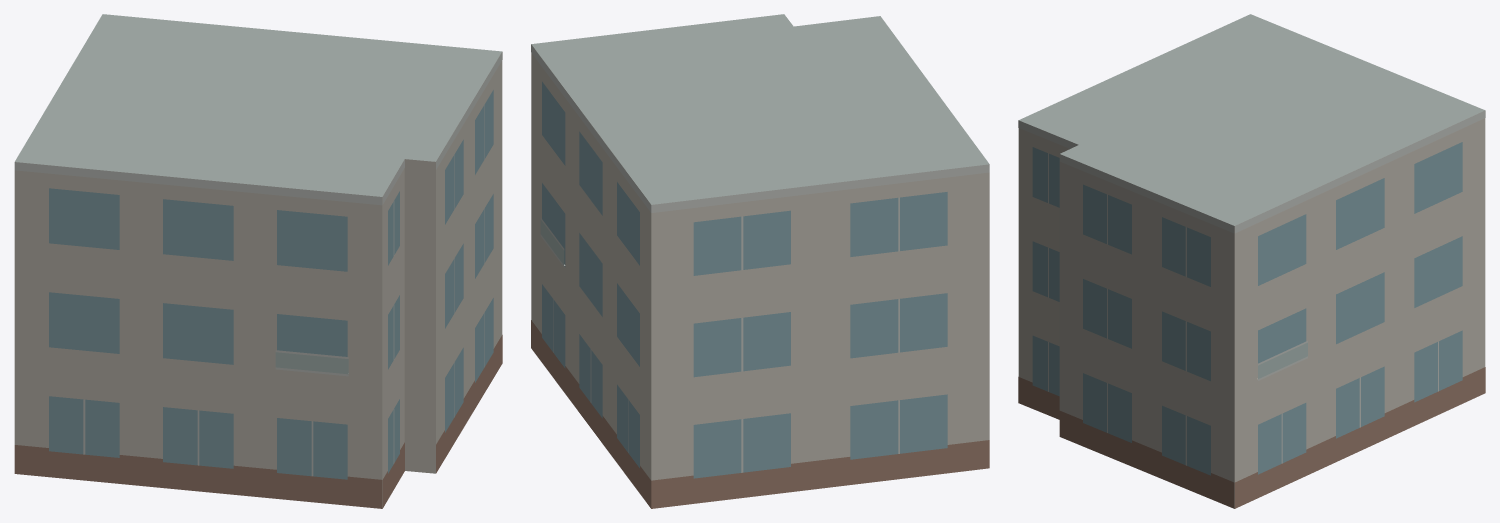
File: survey-upis-32970338.glb
The picture shows the model from 3 angles, left to right: view 1: azimuth 30°, elevation 25°; view 2: azimuth 150°, elevation 25°; view 3: azimuth 270°, elevation 25°; orthographic projection. The views are drawn at different scales.
Visible parts, largest first — view 1: survey-upis-32970338.tmp; view 2: survey-upis-32970338.tmp; view 3: survey-upis-32970338.tmp.
Boxes of the visible parts, x1,y1,x2,y2 form: survey-upis-32970338.tmp: (14,14,502,508); survey-upis-32970338.tmp: (531,14,989,508); survey-upis-32970338.tmp: (1018,14,1485,508).
Size of the model in its own units: 14.64 by 9.1 by 13.63.
